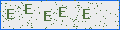E: (25, 3, 34, 15), (7, 9, 15, 20), (83, 9, 91, 20), (44, 10, 51, 22), (59, 7, 66, 18)
